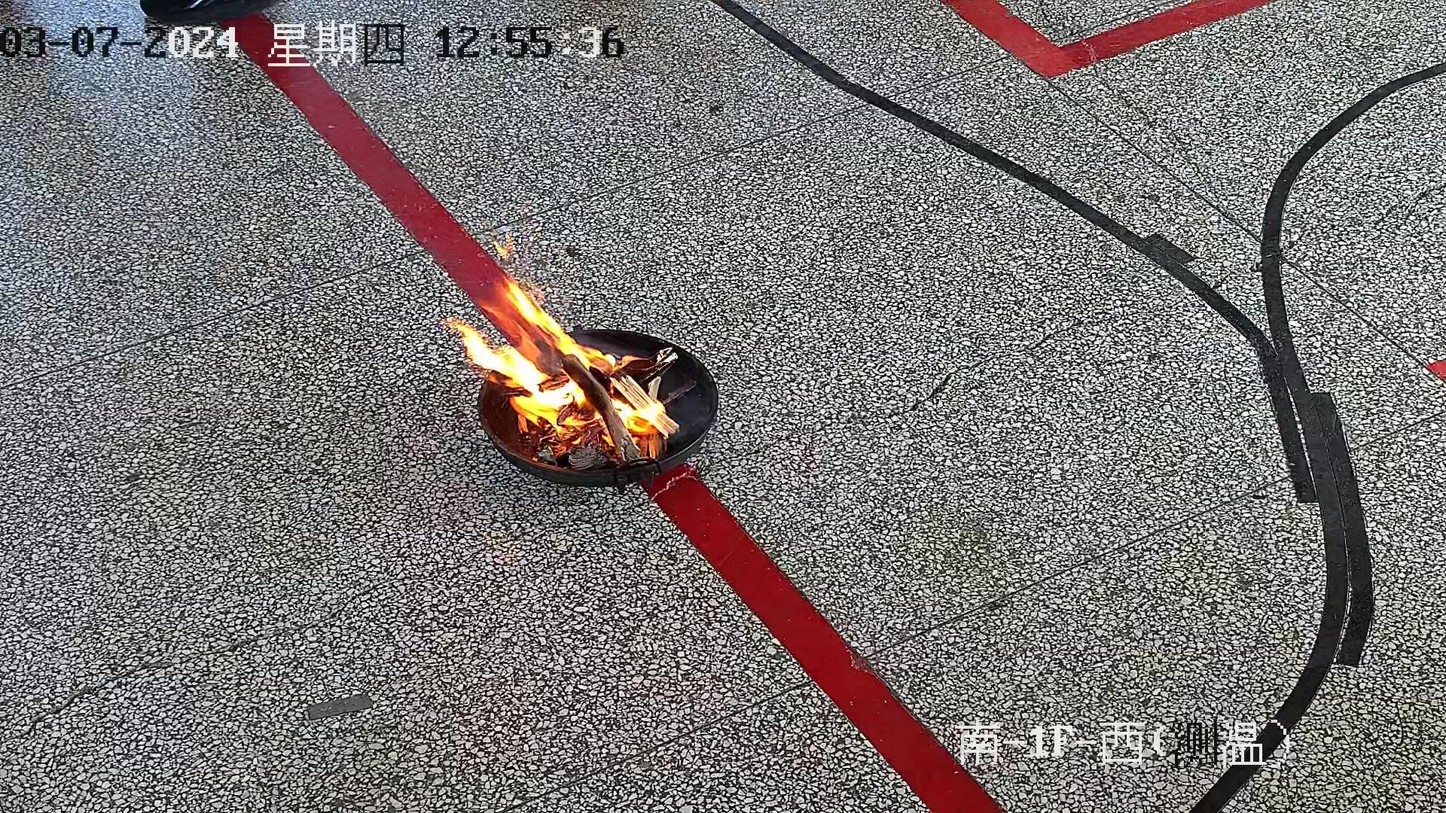fire: (445, 278, 677, 457)
